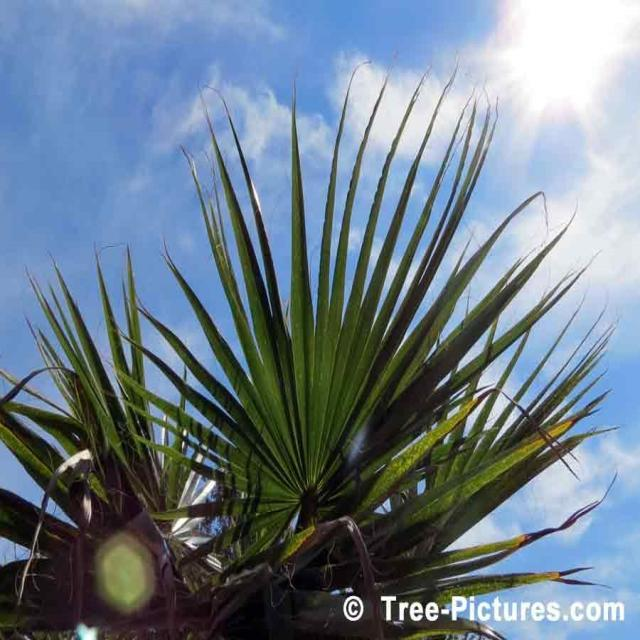Plam-Tree: (35, 232, 533, 594), (195, 268, 461, 514)
